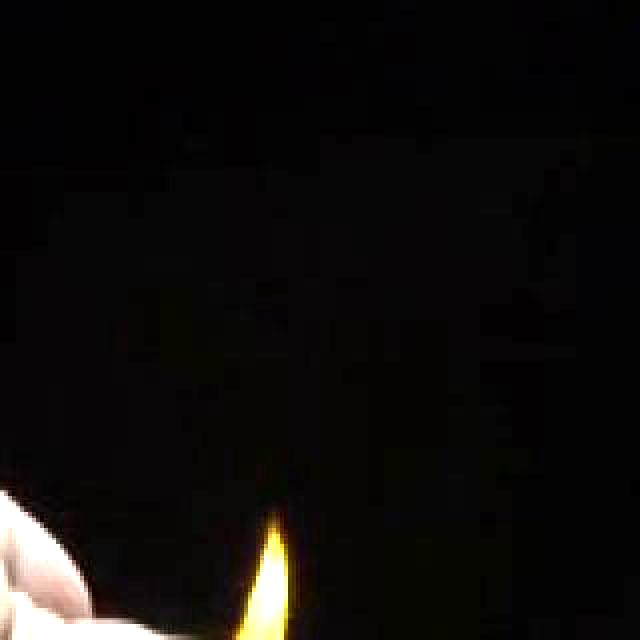fire: (214, 478, 286, 640)
